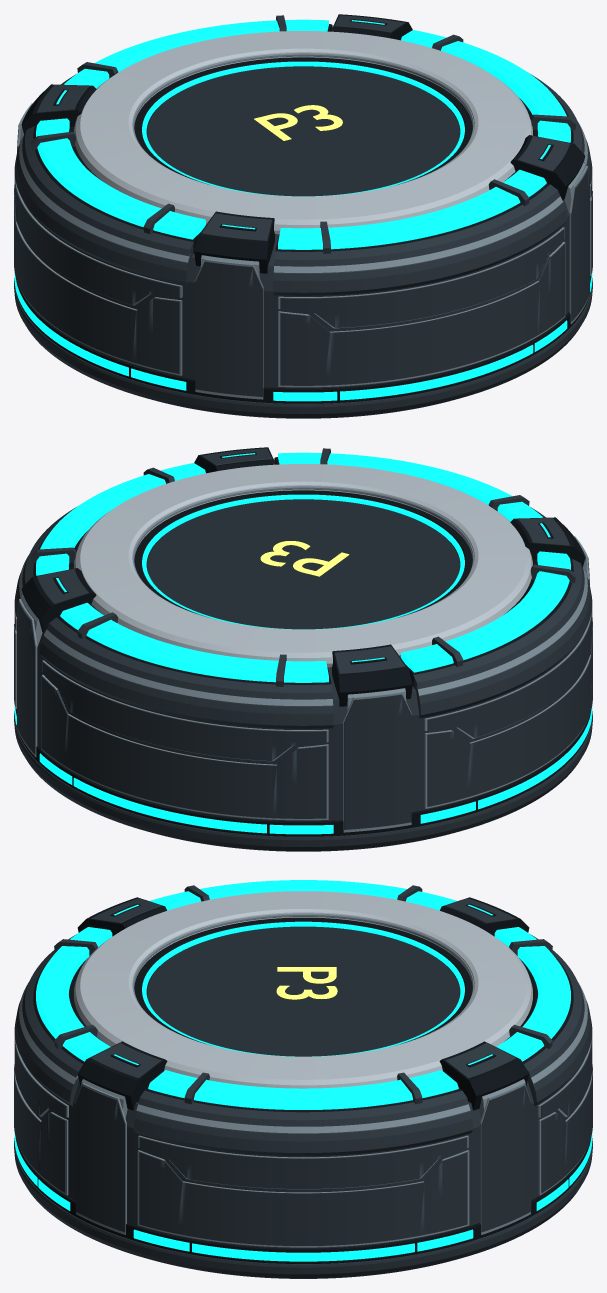
File: Toppler.fbx
3 renders of one model, top to bottom at view 1: azimuth 30°, elevation 25°; view 2: azimuth 150°, elevation 25°; view 3: azimuth 270°, elevation 25°, orthographic.
Visible parts, largest first — view 1: SM_Puck_Toppler_P3_HighDetail; view 2: SM_Puck_Toppler_P3_HighDetail; view 3: SM_Puck_Toppler_P3_HighDetail.
Part boxes in pixels (x1,y1,x2,y2): SM_Puck_Toppler_P3_HighDetail: (14,14,592,418); SM_Puck_Toppler_P3_HighDetail: (14,447,592,851); SM_Puck_Toppler_P3_HighDetail: (14,880,592,1278).
Bounding box in the file's own units: 90.3 × 90.3 × 30.7.
